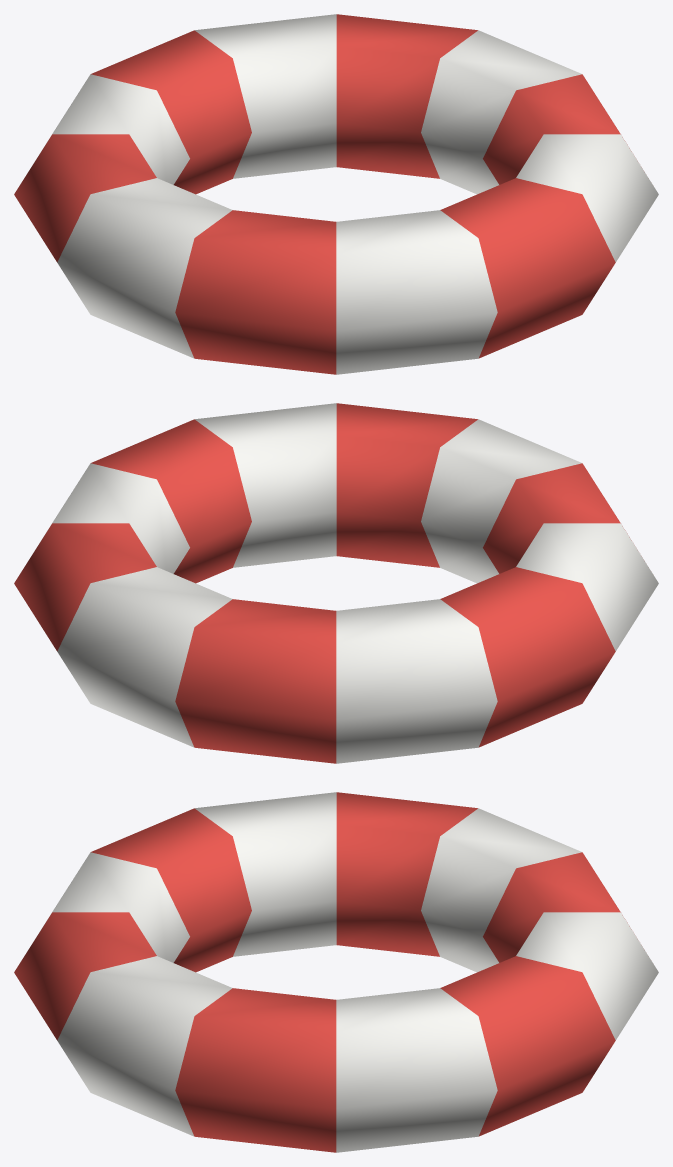
Rendered from ukiwa.glb.
3 views of the same model, one above another, from view 1: azimuth 30°, elevation 25°; view 2: azimuth 150°, elevation 25°; view 3: azimuth 270°, elevation 25° (orthographic).
Parts seen in each view (by area): view 1: ukiwa; view 2: ukiwa; view 3: ukiwa.
Part boxes in pixels (left/top/right/bottom): ukiwa: left=14, top=14, right=658, bottom=374; ukiwa: left=14, top=403, right=658, bottom=763; ukiwa: left=14, top=792, right=658, bottom=1152.
Bounding box in the file's own units: 0.84 × 0.1732 × 0.84.
